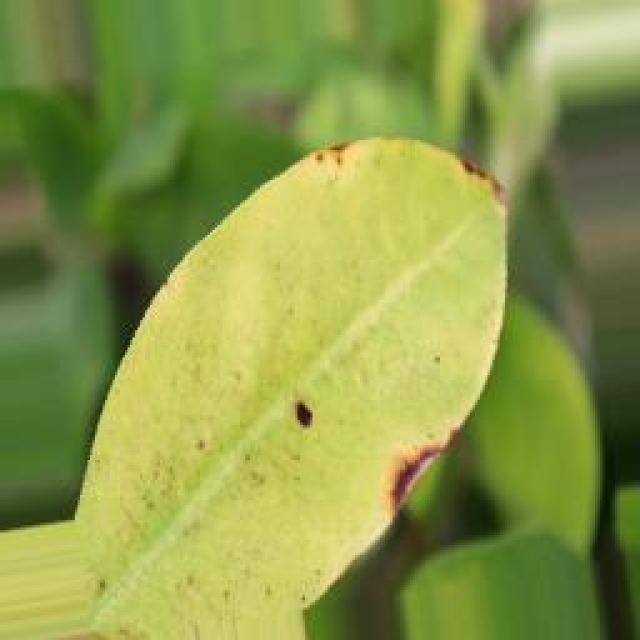Yellowish: (366, 414, 474, 534), (413, 117, 519, 228), (276, 94, 368, 169), (276, 375, 351, 454)
